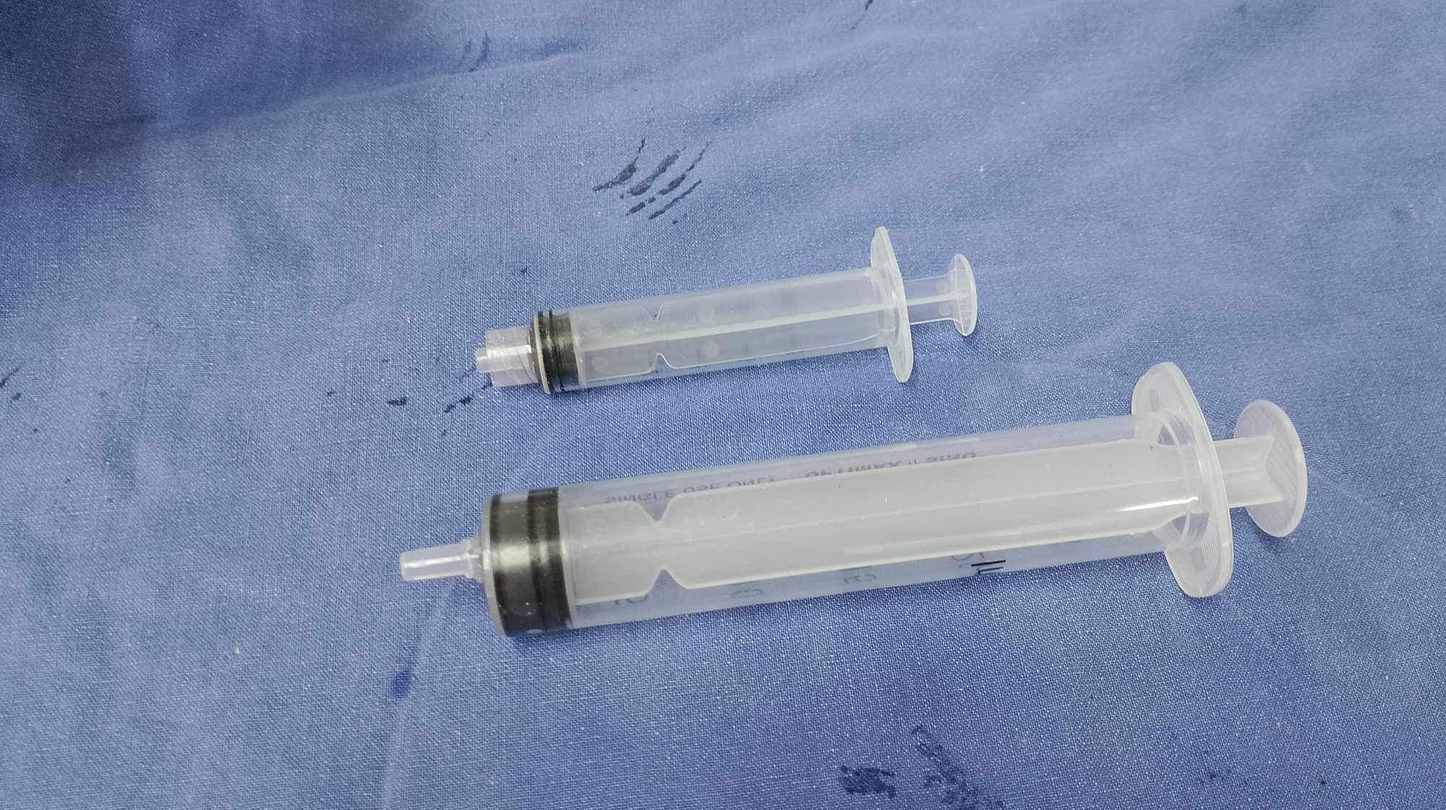Sharps: (398, 359, 1309, 640), (473, 223, 980, 398)
